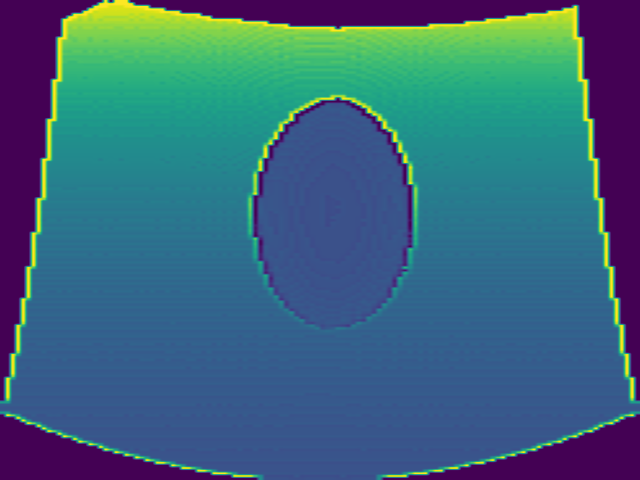sphere: (247, 96, 418, 330)
